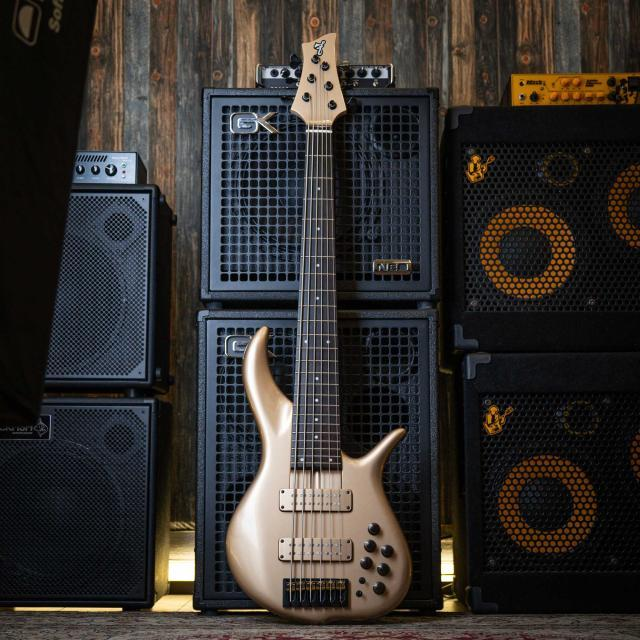bass: (226, 34, 410, 622)
